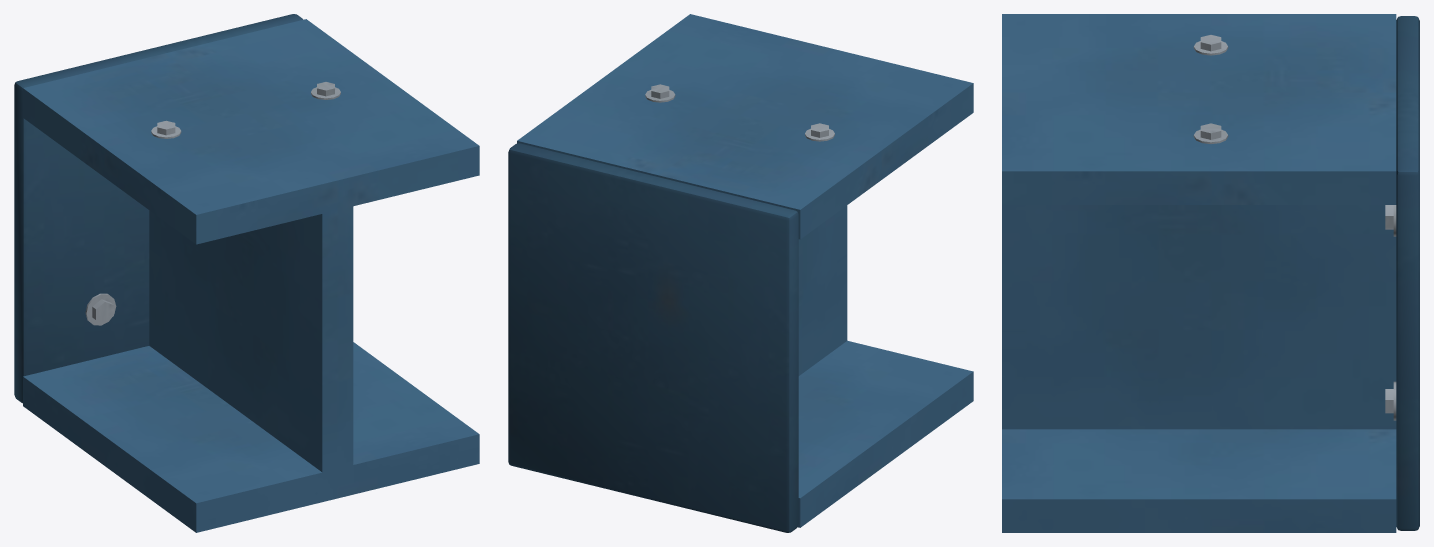
File: ibeam_end.glb
3 views of the same model, side by side, from view 1: azimuth 30°, elevation 25°; view 2: azimuth 150°, elevation 25°; view 3: azimuth 270°, elevation 25° (orthographic). The views are drawn at different scales.
Visible parts, largest first — view 1: Body.004; view 2: Body.004; view 3: Body.004.
Part boxes in pixels (x1,y1,x2,y2): Body.004: [14, 14, 479, 532]; Body.004: [508, 14, 973, 532]; Body.004: [1002, 14, 1419, 532].
Bounding box in the file's own units: 0.22 × 0.2416 × 0.247.
3 materials, 3 textured.
